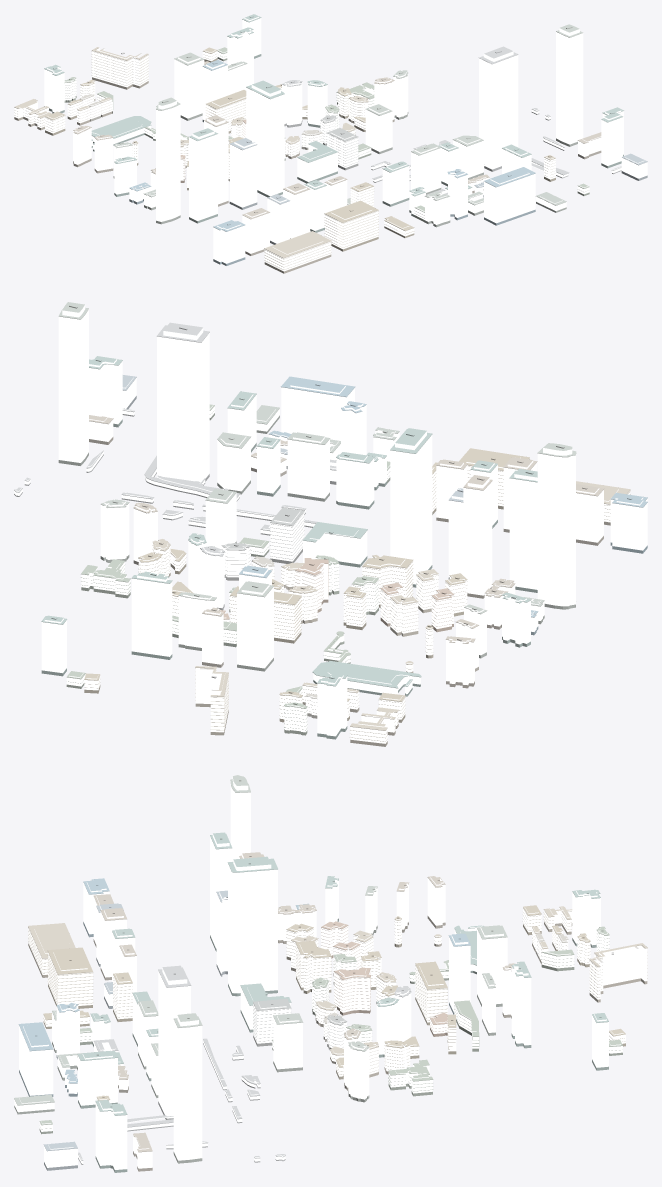
The model's file is buildings--1_0-fine.glb.
3 views of the same model, one above another, from view 1: azimuth 30°, elevation 25°; view 2: azimuth 150°, elevation 25°; view 3: azimuth 270°, elevation 25° (orthographic). The views are drawn at different scales.
Visible parts, largest first — view 1: block_-1_0_office, block_-1_0_roof, block_-1_0_residential, block_-1_0_darkglass, block_-1_0_concrete, block_-1_0_steel; view 2: block_-1_0_office, block_-1_0_roof, block_-1_0_residential, block_-1_0_darkglass, block_-1_0_concrete, block_-1_0_steel; view 3: block_-1_0_office, block_-1_0_roof, block_-1_0_residential, block_-1_0_darkglass, block_-1_0_concrete, block_-1_0_steel.
Boxes of the visible parts, <box> form: block_-1_0_office: <box>44,16,647,263</box>; block_-1_0_roof: <box>14,14,647,271</box>; block_-1_0_residential: <box>14,48,621,271</box>; block_-1_0_darkglass: <box>14,54,647,273</box>; block_-1_0_concrete: <box>14,48,621,268</box>; block_-1_0_steel: <box>44,17,647,231</box>; block_-1_0_office: <box>41,305,647,736</box>; block_-1_0_roof: <box>14,302,647,743</box>; block_-1_0_residential: <box>14,405,629,743</box>; block_-1_0_darkglass: <box>14,396,647,746</box>; block_-1_0_concrete: <box>14,405,630,741</box>; block_-1_0_steel: <box>41,311,647,688</box>; block_-1_0_office: <box>14,776,608,1169</box>; block_-1_0_roof: <box>14,775,647,1169</box>; block_-1_0_residential: <box>28,907,647,1163</box>; block_-1_0_darkglass: <box>14,916,647,1172</box>; block_-1_0_concrete: <box>28,907,647,1160</box>; block_-1_0_steel: <box>14,788,608,1152</box>.
Bounding box in the file's own units: 663 × 178 × 694.
